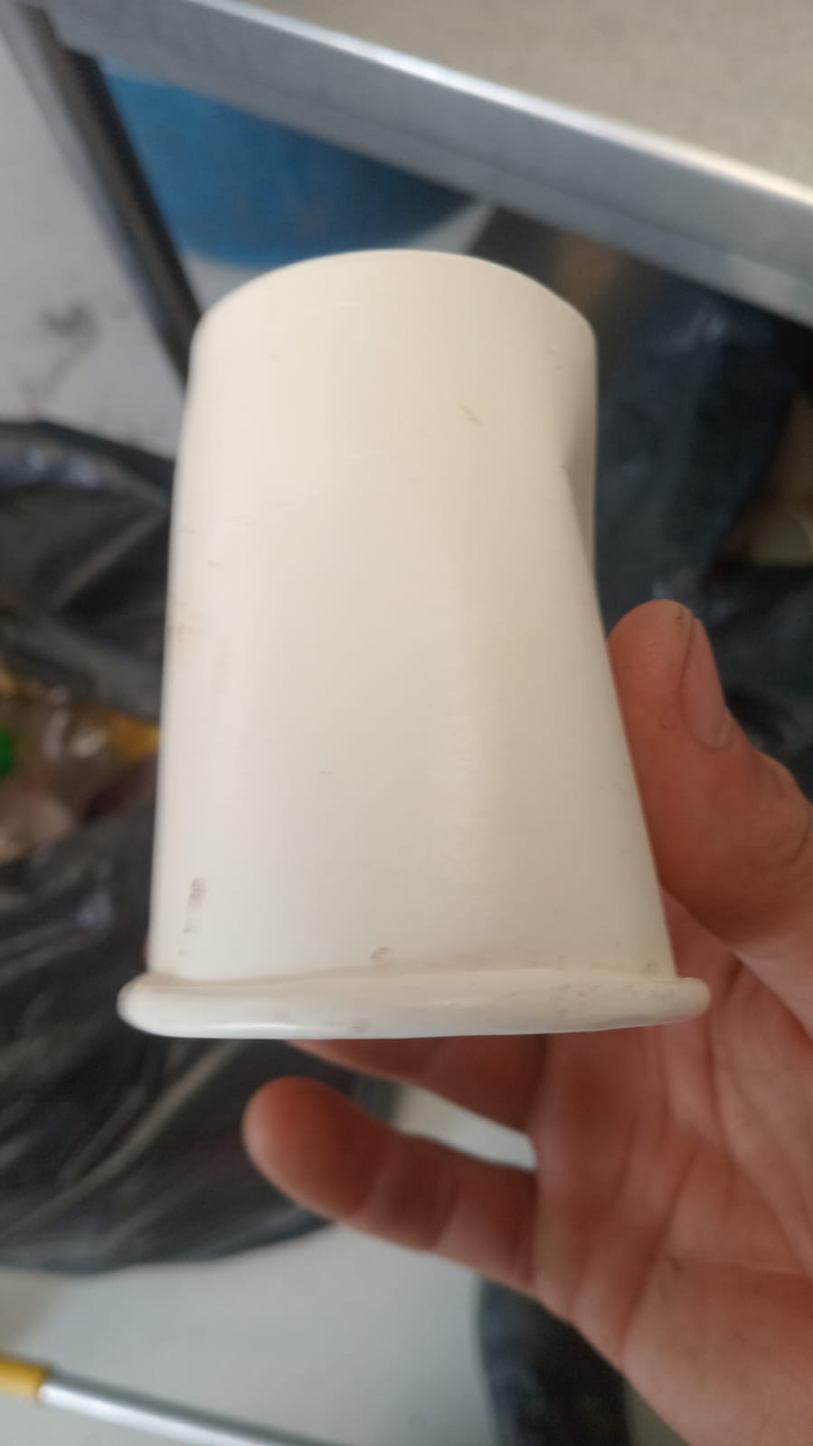Carton: (123, 246, 712, 1039)
